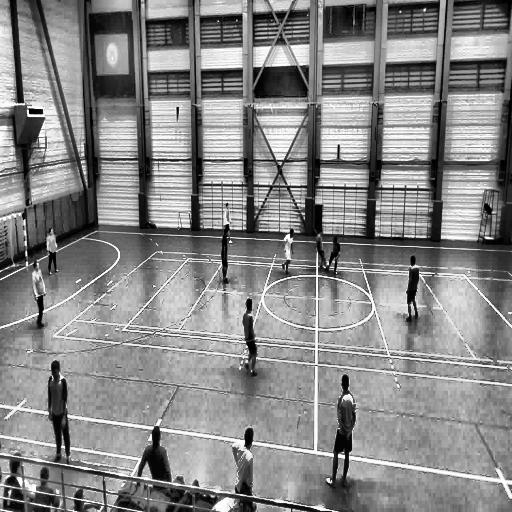ball: (326, 262, 330, 269)
player: (327, 375, 355, 490), (46, 361, 72, 462), (242, 298, 258, 378), (405, 254, 419, 322), (32, 261, 46, 328), (282, 229, 296, 276), (46, 228, 60, 275), (327, 234, 341, 274), (221, 225, 229, 285), (316, 228, 324, 270), (224, 208, 232, 229)
